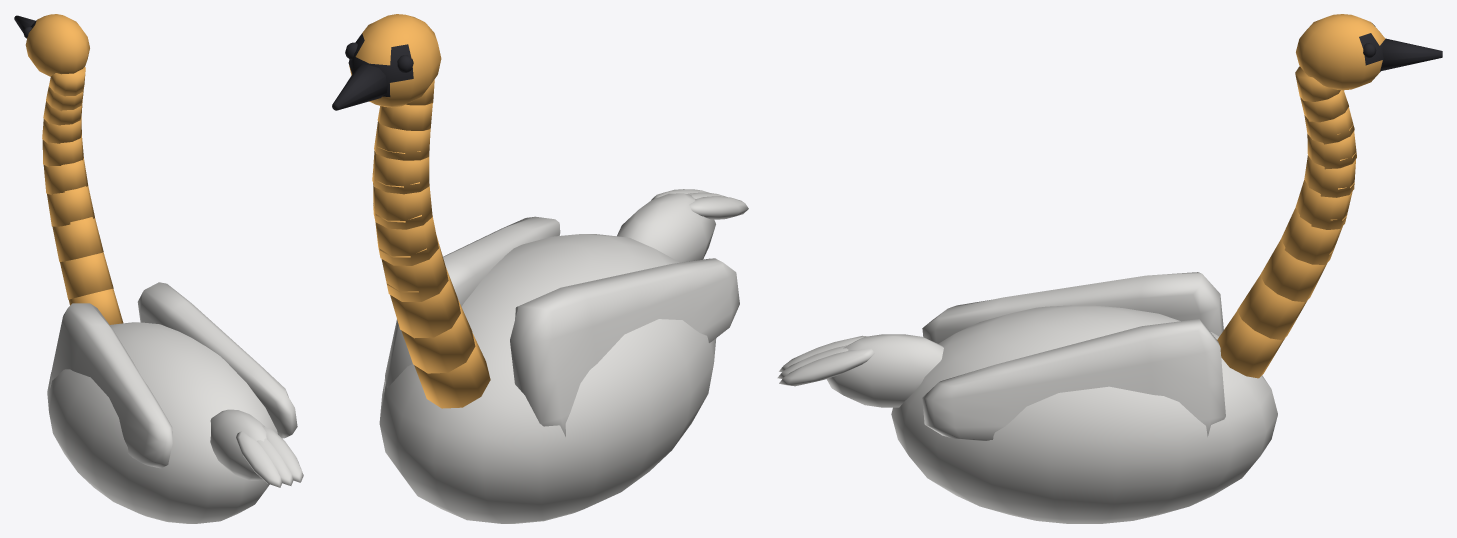
The model's file is swan_style1.glb.
The picture shows the model from 3 angles, left to right: view 1: azimuth 30°, elevation 25°; view 2: azimuth 150°, elevation 25°; view 3: azimuth 270°, elevation 25°; orthographic projection. The views are drawn at different scales.
Visible parts, largest first — view 1: Body, NeckHead, WingR, WingL, TailFan; view 2: Body, NeckHead, WingR, WingL, TailFan; view 3: Body, NeckHead, WingL, WingR, TailFan.
Part boxes in pixels (box(x1,y1,x2,y2)): Body: box(47, 322, 277, 523); NeckHead: box(14, 14, 123, 324); WingR: box(50, 303, 172, 468); WingL: box(137, 282, 297, 438); TailFan: box(236, 426, 303, 487); Body: box(379, 193, 716, 523); NeckHead: box(332, 14, 490, 408); WingR: box(510, 258, 739, 436); WingL: box(384, 216, 560, 391); TailFan: box(651, 189, 748, 219); Body: box(826, 305, 1277, 523); NeckHead: box(1217, 14, 1442, 378); WingL: box(922, 319, 1225, 440); WingR: box(922, 272, 1223, 343); TailFan: box(777, 335, 874, 386).
Size of the model in its own units: 0.4838 by 1.1 by 1.34.
